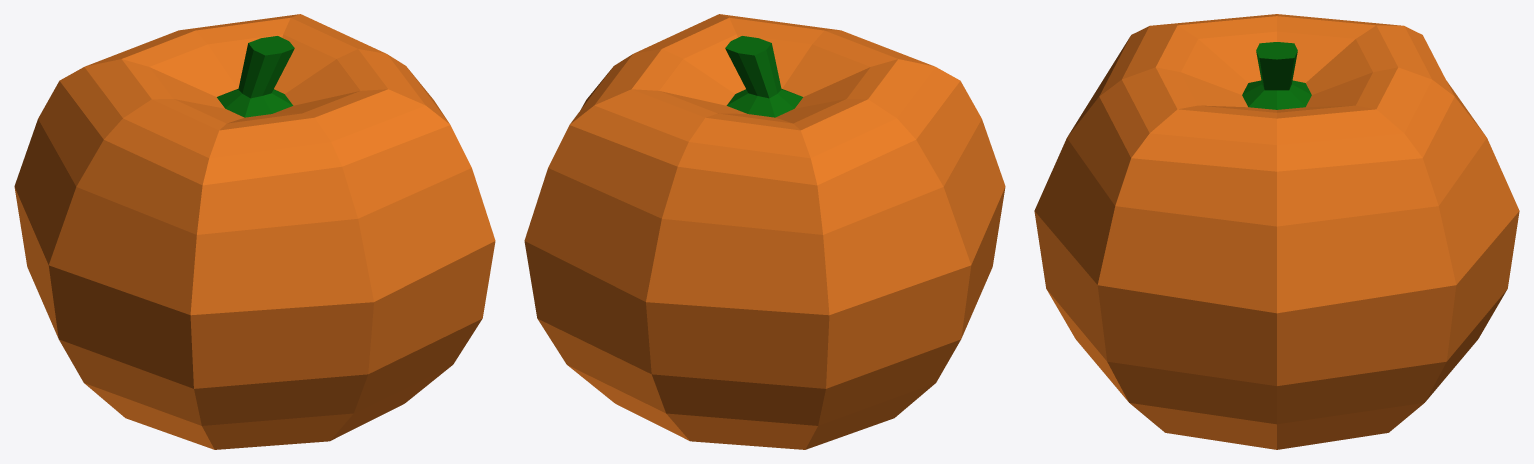
The model's file is Base Jeruk.fbx.
3 views of the same model, side by side, from view 1: azimuth 30°, elevation 25°; view 2: azimuth 150°, elevation 25°; view 3: azimuth 270°, elevation 25° (orthographic).
Visible parts, largest first — view 1: Jeruk; view 2: Jeruk; view 3: Jeruk.
Part boxes in pixels (x1=…): Jeruk: x1=14, y1=14, x2=495, y2=449; Jeruk: x1=524, y1=14, x2=1005, y2=449; Jeruk: x1=1034, y1=14, x2=1519, y2=449.
Size of the model in its own units: 77.06 by 67.48 by 77.06.
